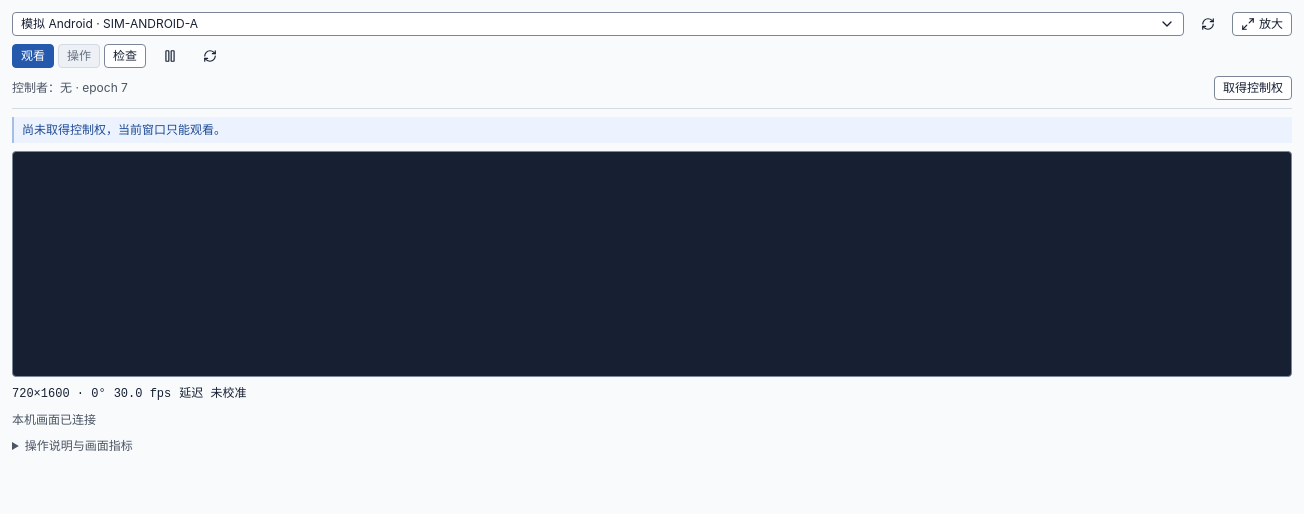
Scenario: fullscreen rejection is reported without replacing the stream or acquiring control
This screenshot has width=1304, height=514.
Expected: the text "本机画面已连接" is shown, [12, 412, 96, 427]
Click the button with aria-label "放大画面". click: coordinates (1262, 24)
box: [1232, 12, 1292, 36]
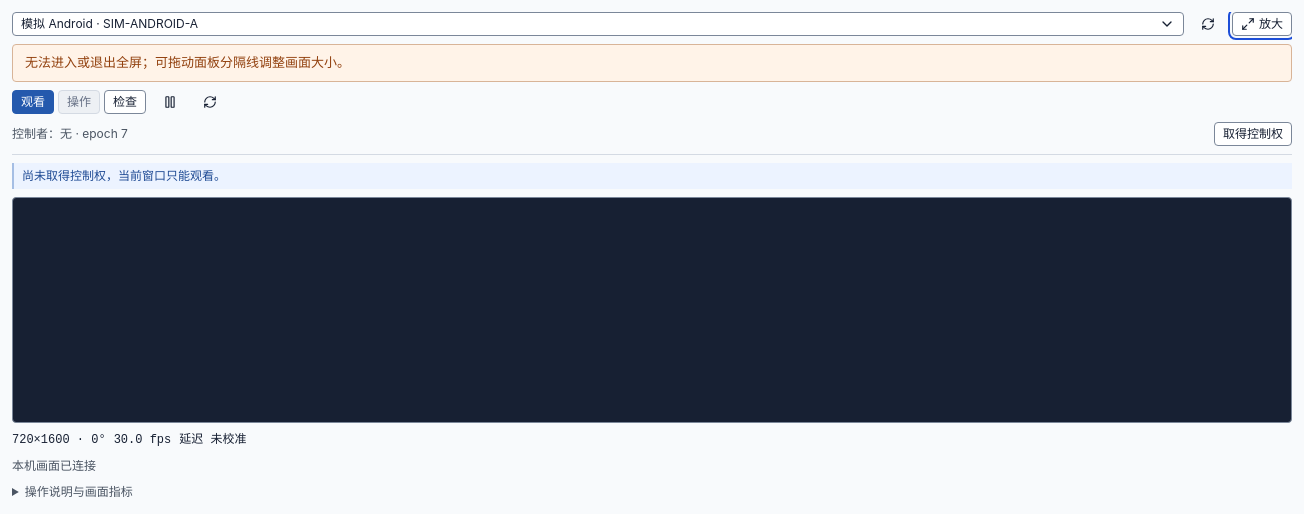
Now the message "无法进入或退出全屏；可拖动面板分隔线调整画面大小。" is shown, box [12, 44, 1292, 82]
